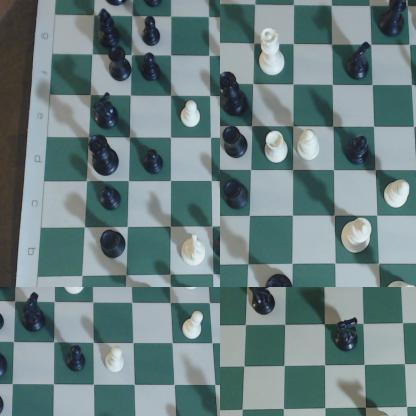black-bishop: (96, 9, 123, 52), (345, 137, 374, 167), (140, 15, 165, 47), (139, 54, 165, 82), (145, 1, 165, 10)
black-king: (381, 1, 412, 42)
black-knight: (19, 288, 55, 336), (333, 315, 361, 356), (94, 89, 120, 131), (349, 41, 372, 82), (252, 288, 280, 321)
black-pawn: (142, 146, 167, 178), (64, 344, 89, 376), (101, 185, 125, 212), (1, 303, 8, 335), (215, 235, 220, 261)
black-queen: (221, 72, 255, 124), (89, 134, 122, 177), (1, 334, 14, 380), (260, 274, 297, 287)
black-rook: (221, 124, 253, 165), (225, 179, 252, 217), (109, 45, 134, 82), (102, 231, 128, 258), (1, 381, 11, 416)
white-bishop: (381, 176, 413, 212), (299, 129, 324, 166), (64, 288, 89, 299)
white-king: (337, 215, 377, 256)
white-knight: (180, 233, 208, 269)
white-pawn: (105, 344, 129, 376), (183, 311, 206, 344), (180, 100, 202, 130)
white-queen: (257, 25, 288, 79)
white-rook: (262, 128, 292, 169)
